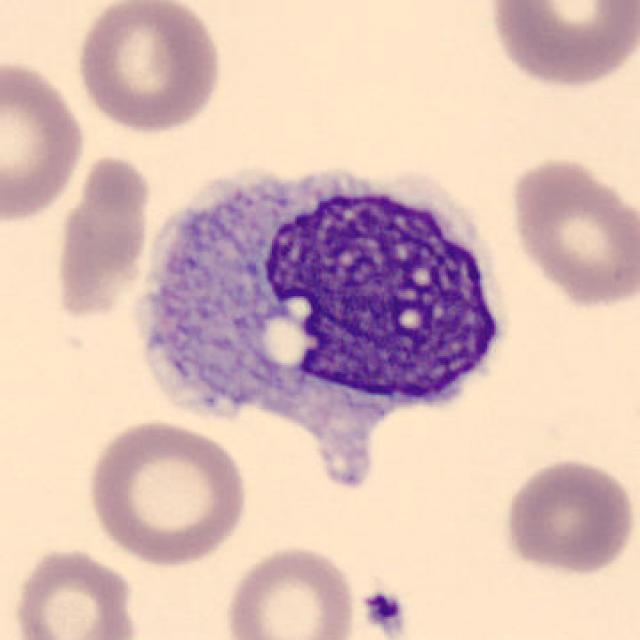Monocyte: (110, 146, 526, 476)
Platelets: (359, 587, 409, 637)
RBC: (82, 414, 252, 568), (505, 152, 638, 310), (73, 0, 226, 134), (50, 148, 156, 326), (498, 453, 636, 578), (0, 53, 89, 227), (482, 0, 638, 92), (220, 541, 361, 640), (9, 543, 140, 640)
